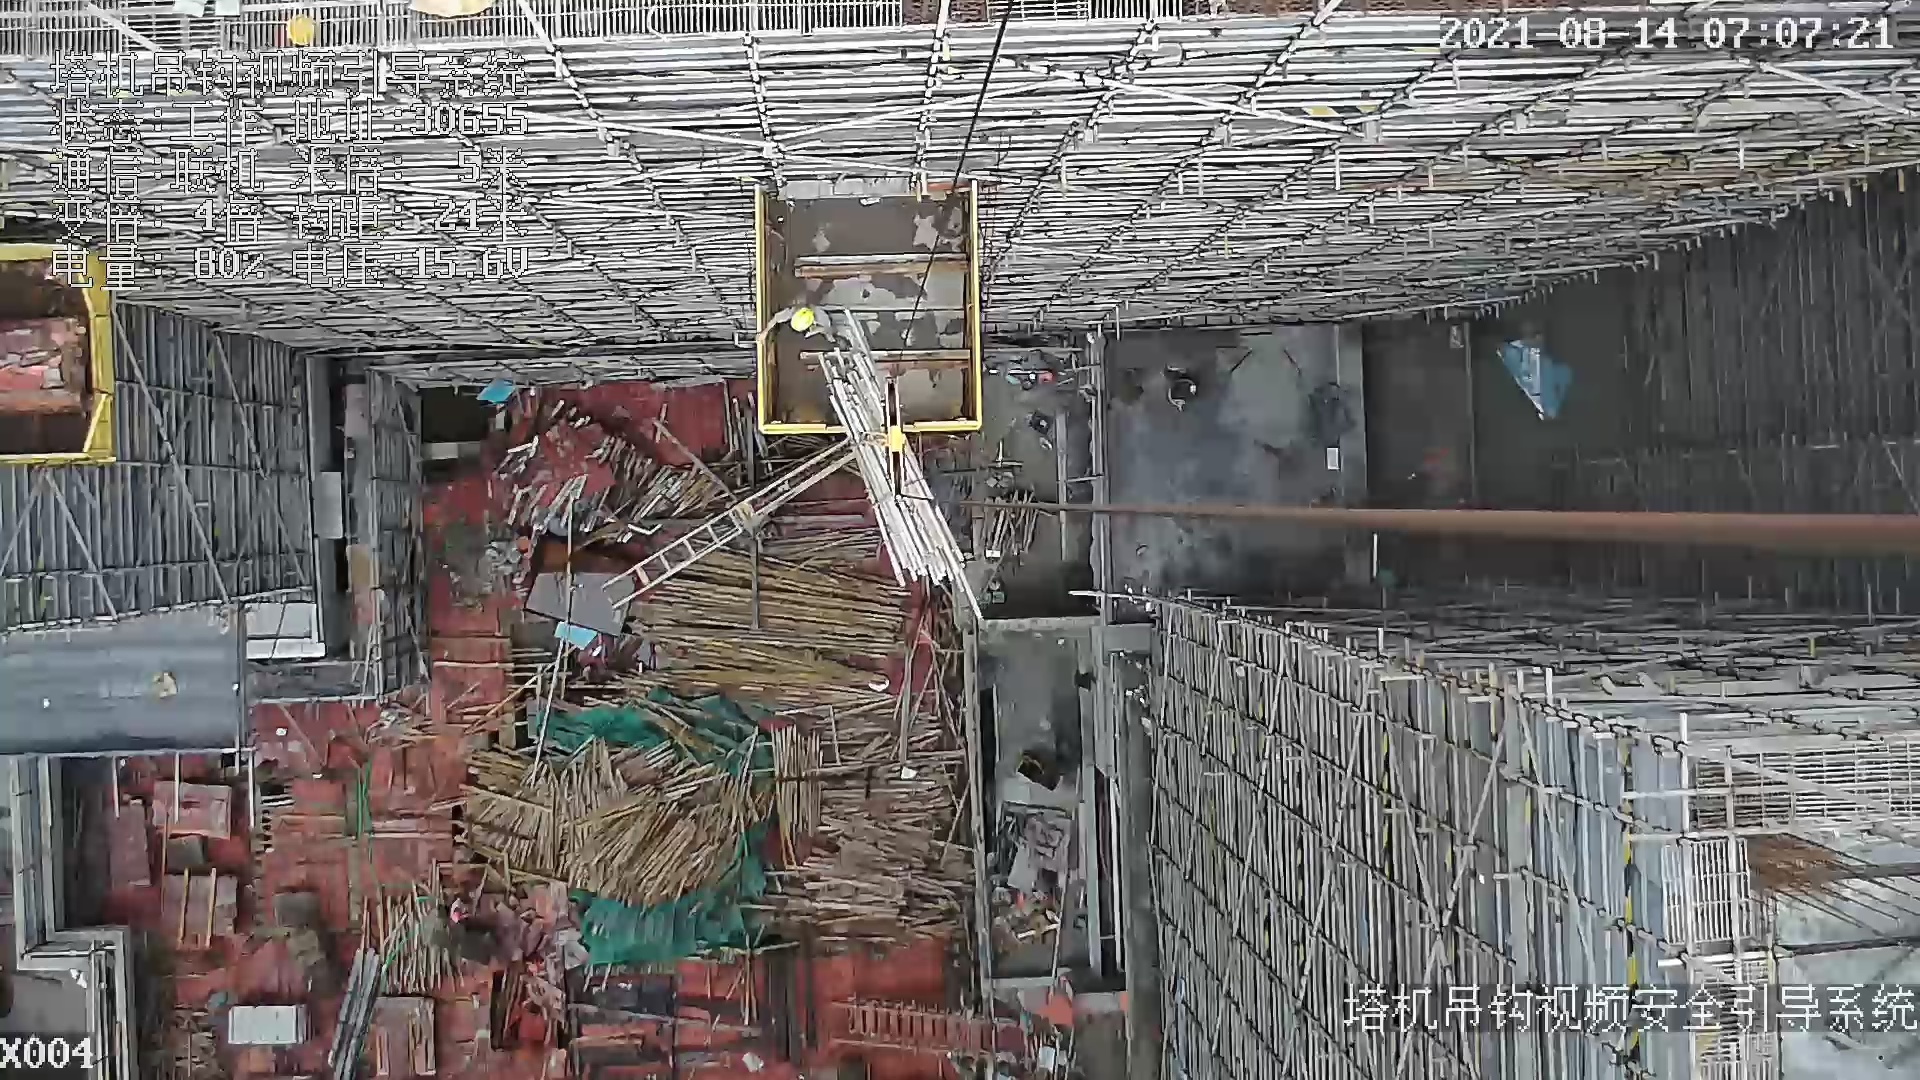helmet: (790, 306, 817, 334)
hook: (883, 382, 915, 506)
person: (758, 296, 841, 351)
